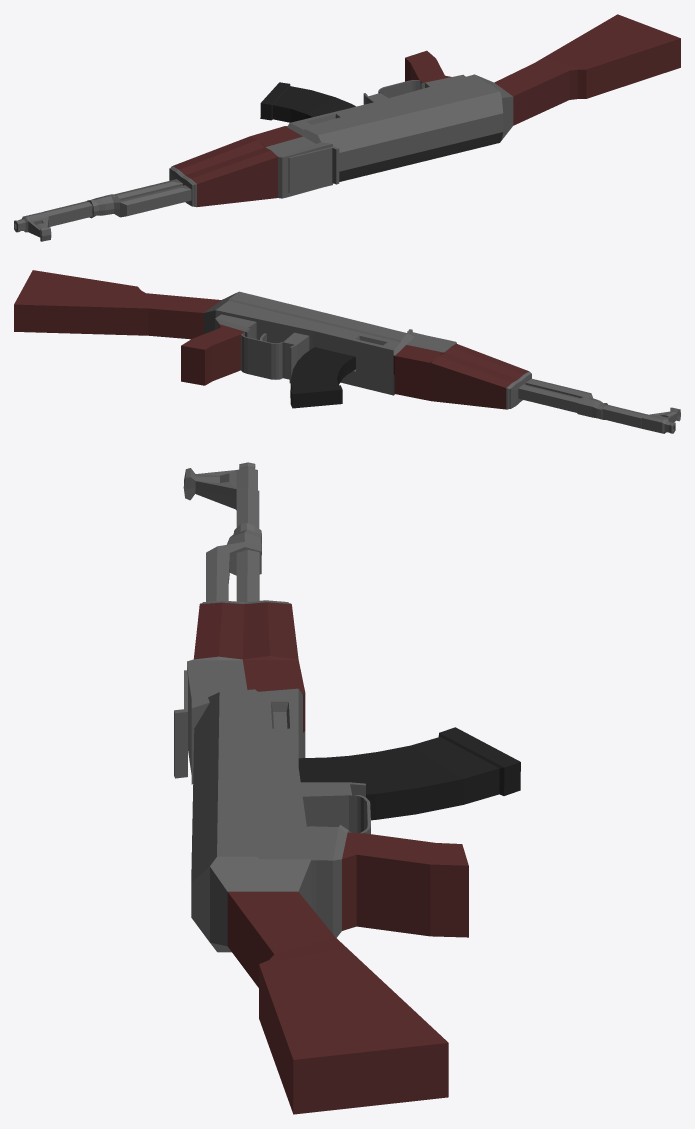
The model's file is ak47placeholder9.glb.
The picture shows the model from 3 angles, top to bottom: view 1: azimuth 30°, elevation 25°; view 2: azimuth 150°, elevation 25°; view 3: azimuth 270°, elevation 25°; orthographic projection. The views are drawn at different scales.
Visible parts, largest first — view 1: Cube, Cube.001; view 2: Cube, Cube.001; view 3: Cube, Cube.001.
Boxes of the visible parts, <box> form: Cube: <box>14,14,680,241</box>; Cube.001: <box>260,82,355,122</box>; Cube: <box>14,270,680,433</box>; Cube.001: <box>290,347,355,408</box>; Cube: <box>174,462,468,1114</box>; Cube.001: <box>298,727,520,820</box>.
Bounding box in the file's own units: 2.28 × 0.1653 × 0.5438.
